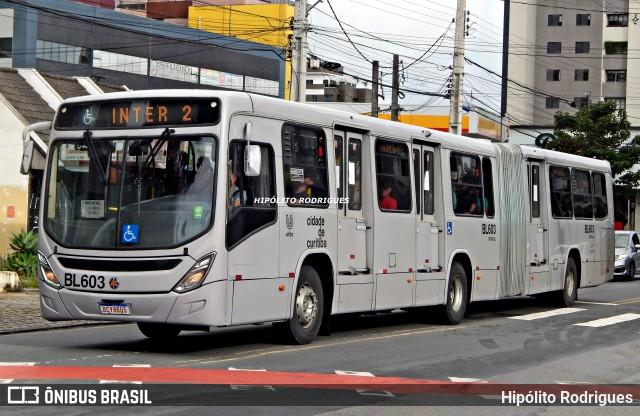INTER2: (107, 100, 197, 131)
